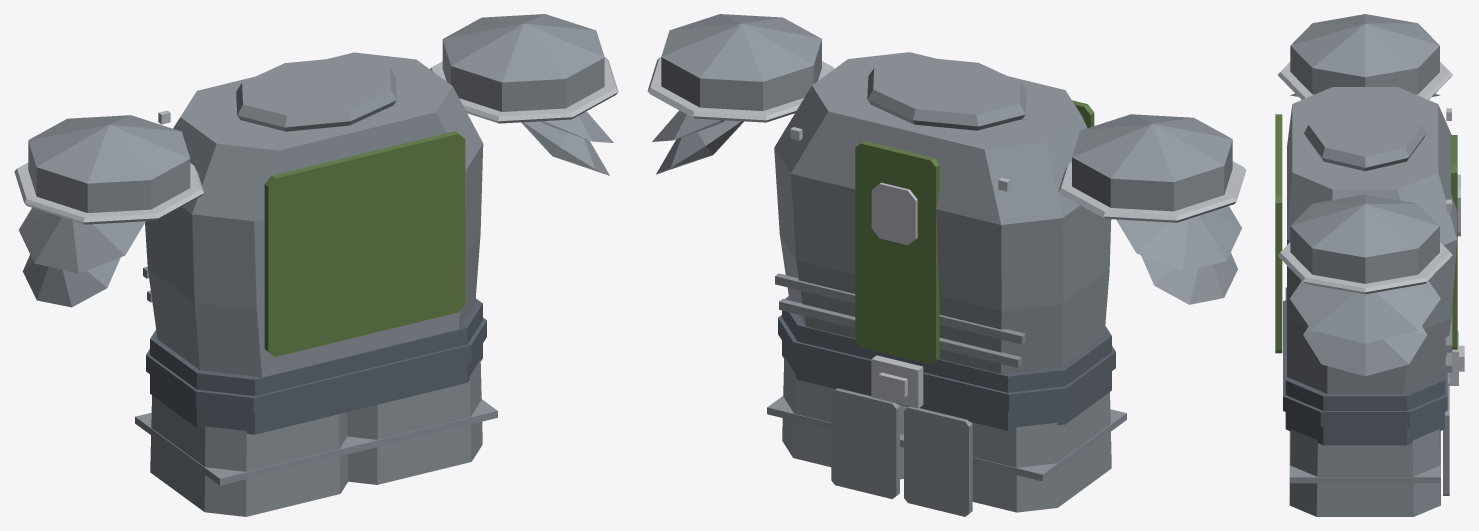
Rendered from armor_greatsword_s1.fbx.
3 renders of one model, left to right at view 1: azimuth 30°, elevation 25°; view 2: azimuth 150°, elevation 25°; view 3: azimuth 270°, elevation 25°, orthographic. The views are drawn at different scales.
Visible parts, largest first — view 1: Chest_Body, Chest_Attach, Shoulder_L_Body, Chest_Inner, Tasset_L_Body, Shoulder_R_Body, Tasset_R_Body, Shoulder_L_Trim, Shoulder_R_Trim; view 2: Chest_Body, Shoulder_L_Body, Tasset_L_Body, Chest_Inner, Shoulder_R_Body, Chest_Attach, Tasset_R_Body, Chest_Trim, Shoulder_L_Trim, Shoulder_R_Trim; view 3: Chest_Body, Shoulder_R_Body, Tasset_R_Body, Shoulder_L_Body, Chest_Inner, Chest_Attach, Shoulder_R_Trim, Shoulder_L_Trim, Chest_Trim.
Boxes of the visible parts, box(x1,y1,x2,y2) form: Chest_Body: box(143, 52, 483, 377); Chest_Attach: box(264, 131, 465, 356); Shoulder_L_Body: box(19, 115, 190, 307); Chest_Inner: box(146, 298, 486, 434); Tasset_L_Body: box(135, 395, 366, 516); Shoulder_R_Body: box(442, 14, 613, 175); Tasset_R_Body: box(344, 359, 497, 484); Shoulder_L_Trim: box(14, 162, 203, 224); Shoulder_R_Trim: box(430, 57, 618, 123); Chest_Body: box(774, 52, 1111, 373); Shoulder_L_Body: box(1072, 114, 1241, 304); Tasset_L_Body: box(900, 392, 1126, 516); Chest_Inner: box(778, 296, 1115, 430); Shoulder_R_Body: box(652, 14, 821, 174); Chest_Attach: box(855, 100, 1094, 364); Tasset_R_Body: box(767, 357, 908, 498); Chest_Trim: box(790, 127, 1010, 408); Shoulder_L_Trim: box(1058, 161, 1246, 222); Shoulder_R_Trim: box(647, 57, 834, 122); Chest_Body: box(1287, 87, 1456, 393); Shoulder_R_Body: box(1289, 194, 1440, 376); Tasset_R_Body: box(1289, 385, 1449, 516); Shoulder_L_Body: box(1290, 14, 1440, 96); Chest_Inner: box(1283, 287, 1447, 445); Chest_Attach: box(1275, 114, 1457, 353); Shoulder_R_Trim: box(1277, 242, 1452, 294); Shoulder_L_Trim: box(1278, 62, 1452, 99); Chest_Trim: box(1446, 108, 1464, 385).
Bounding box in the file's own units: 446 × 289 × 140.
